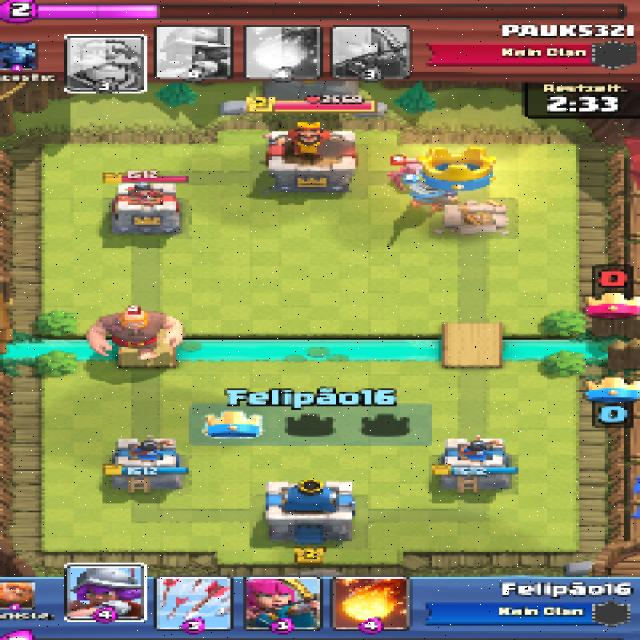Enemy-Giant: (83, 311, 182, 362)
Enemy-MiniPEKKA: (387, 163, 419, 186)
Player-Knight: (408, 180, 458, 211)
